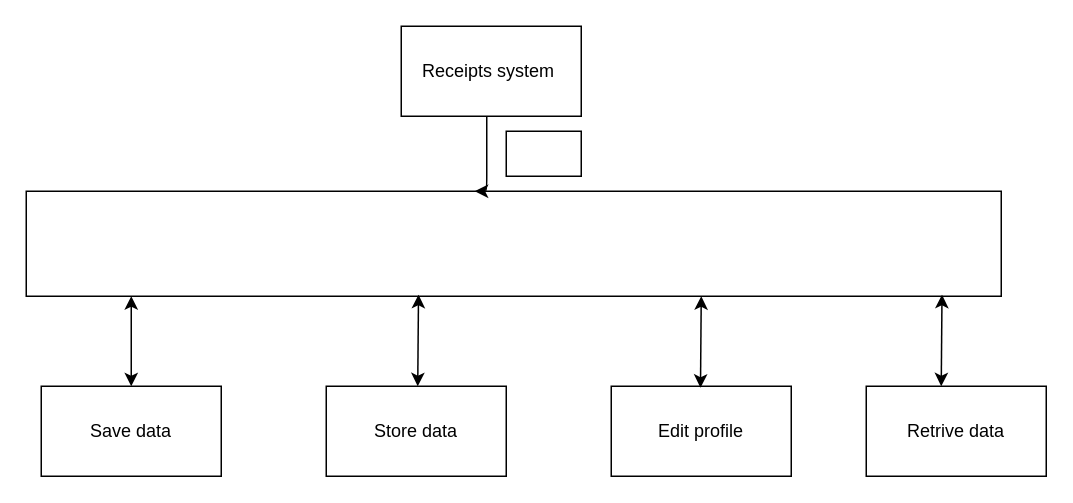
The diagram is 1073 pixels wide and 503 high, and some of its shapes have lost their labels. Each missing label, with the centre of its shape:
"Capture receipts" belongs at pixel 543 153.
"Event bus" belongs at pixel 513 243.
